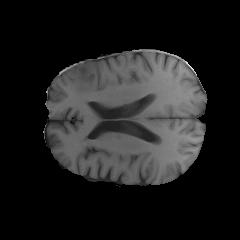glioma: (56, 62, 111, 104)
